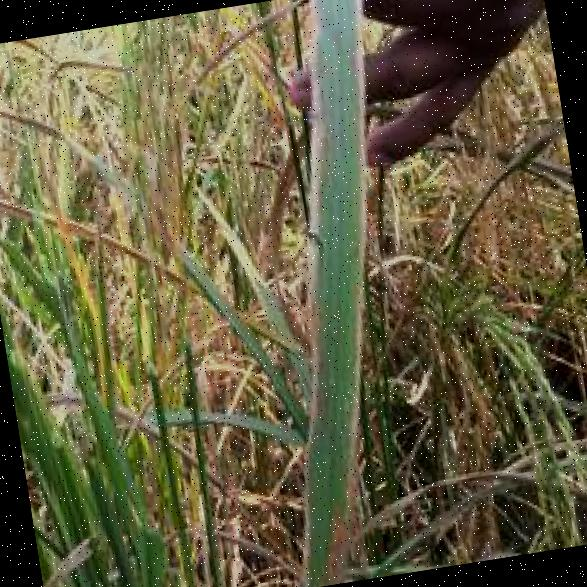Bacteria_Leaf_Blight: (221, 3, 406, 551)
